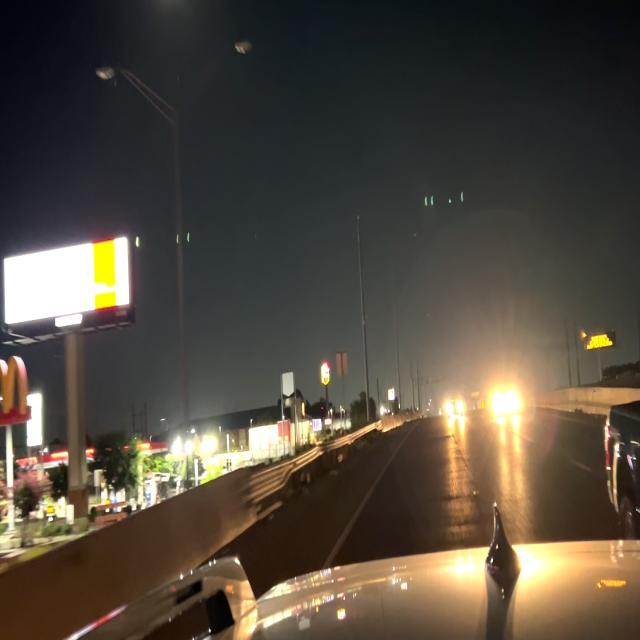back-of-sign: (338, 347, 347, 380)
